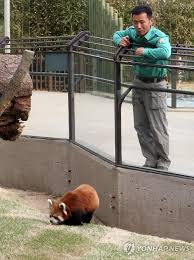redPanda: (44, 177, 103, 232)
